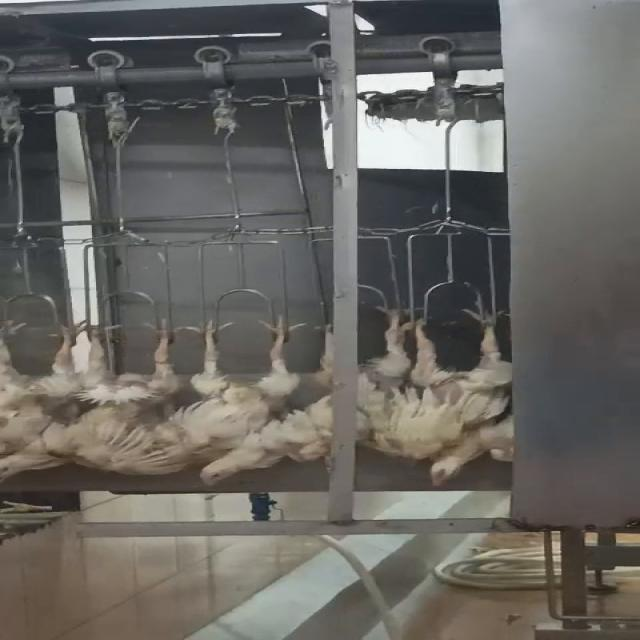chicken: (194, 319, 341, 491), (411, 296, 517, 492), (190, 317, 304, 483), (76, 319, 186, 479), (0, 317, 75, 483), (350, 301, 416, 461)
